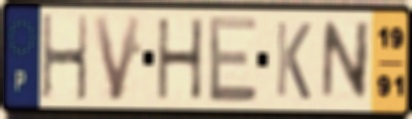E: (206, 13, 260, 106)
H: (40, 12, 89, 104), (155, 15, 206, 103)
K: (273, 18, 314, 103)
N: (318, 18, 373, 104)
V: (89, 13, 145, 105)
